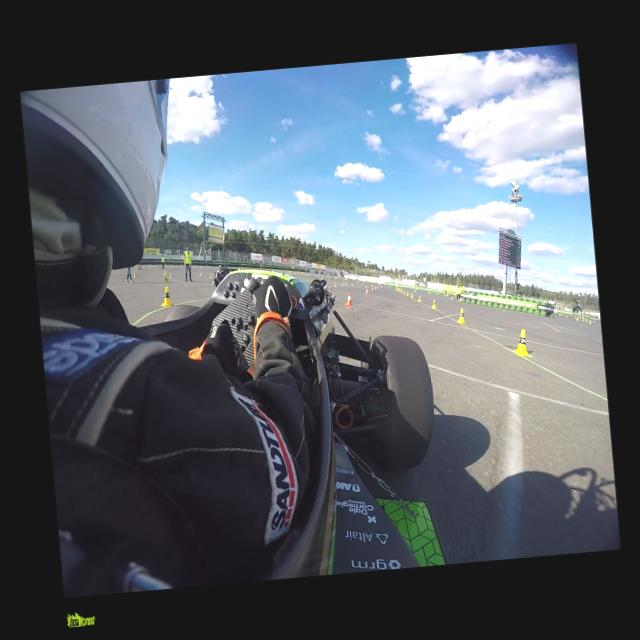orange_cone: (344, 292, 353, 308), (364, 287, 368, 295)
yellow_cone: (513, 328, 529, 357), (160, 286, 173, 306), (455, 306, 465, 324), (430, 300, 436, 308), (416, 294, 421, 302), (164, 275, 168, 283), (168, 272, 172, 278), (410, 292, 413, 298), (199, 270, 202, 276), (333, 282, 336, 287), (403, 288, 405, 294), (406, 290, 408, 295)
